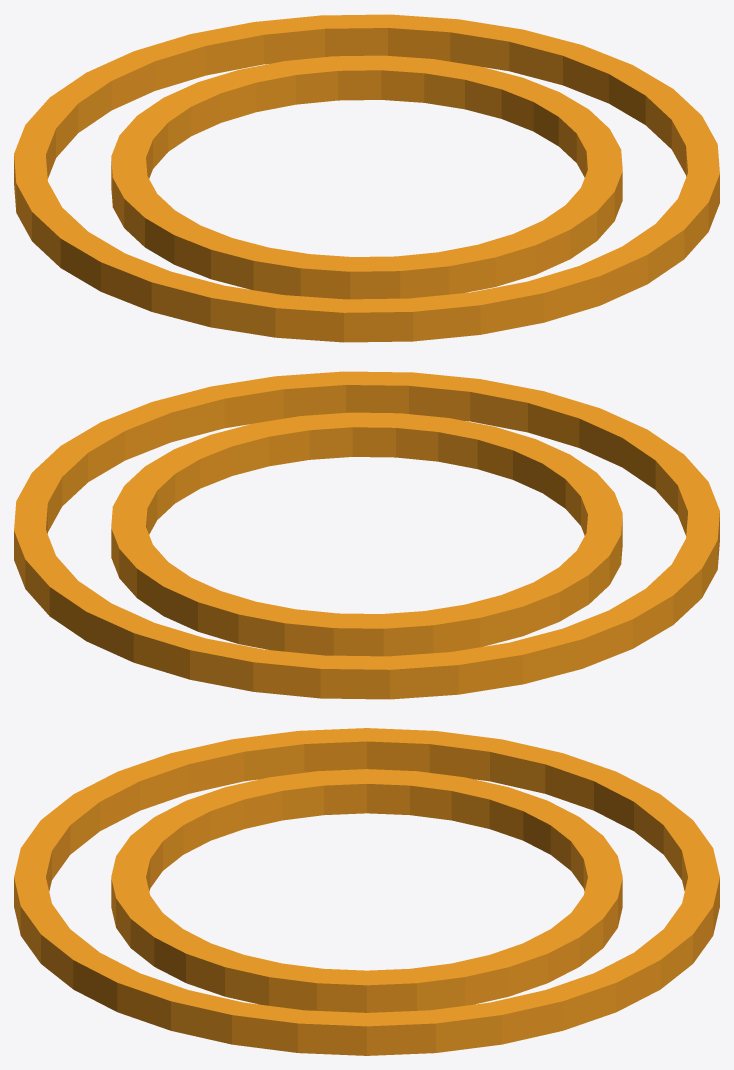
File: SM_Icon_SelectionRing_04.fbx
The picture shows the model from 3 angles, top to bottom: view 1: azimuth 30°, elevation 25°; view 2: azimuth 150°, elevation 25°; view 3: azimuth 270°, elevation 25°; orthographic projection.
Visible parts, largest first — view 1: SM_Icon_SelectionRing_04; view 2: SM_Icon_SelectionRing_04; view 3: SM_Icon_SelectionRing_04.
Part boxes in pixels (x1,y1,x2,y2): SM_Icon_SelectionRing_04: [14, 14, 719, 342]; SM_Icon_SelectionRing_04: [14, 371, 719, 699]; SM_Icon_SelectionRing_04: [14, 728, 719, 1055].
Bounding box in the file's own units: 79.47 × 3.67 × 79.47.
